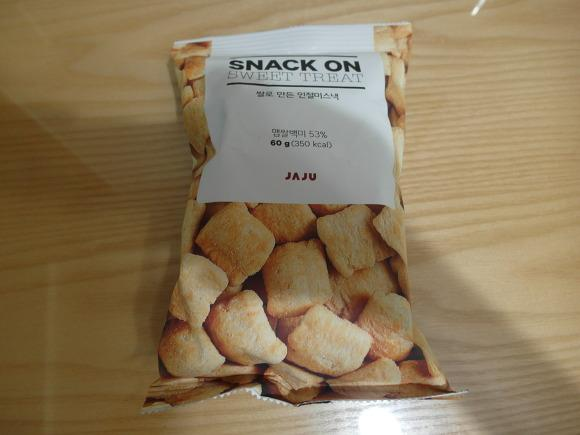snack: (140, 19, 472, 417)
